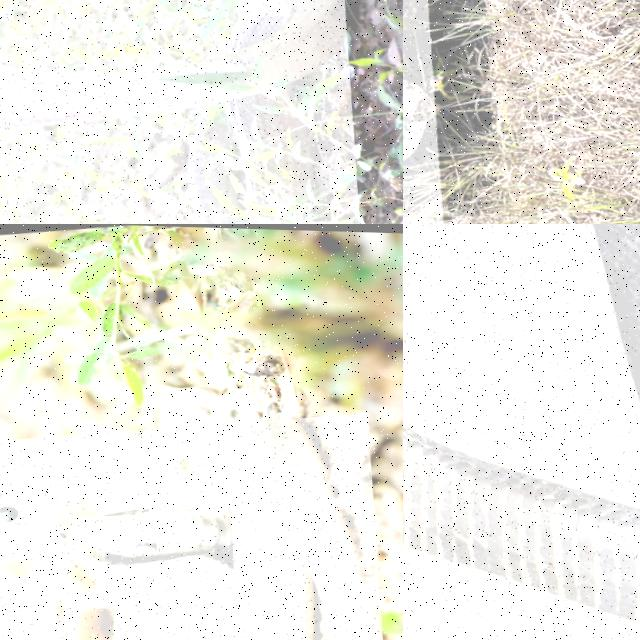Naja siamensis: (0, 421, 383, 639), (0, 0, 346, 147)
Ophiophagus hannah: (403, 427, 639, 622)
Python bivittatus: (403, 0, 438, 179)
